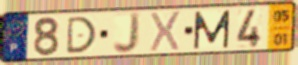4: (235, 7, 264, 49)
8: (32, 15, 62, 57)
D: (65, 15, 98, 55)
J: (112, 11, 143, 56)
M: (193, 9, 233, 51)
X: (148, 9, 183, 53)
